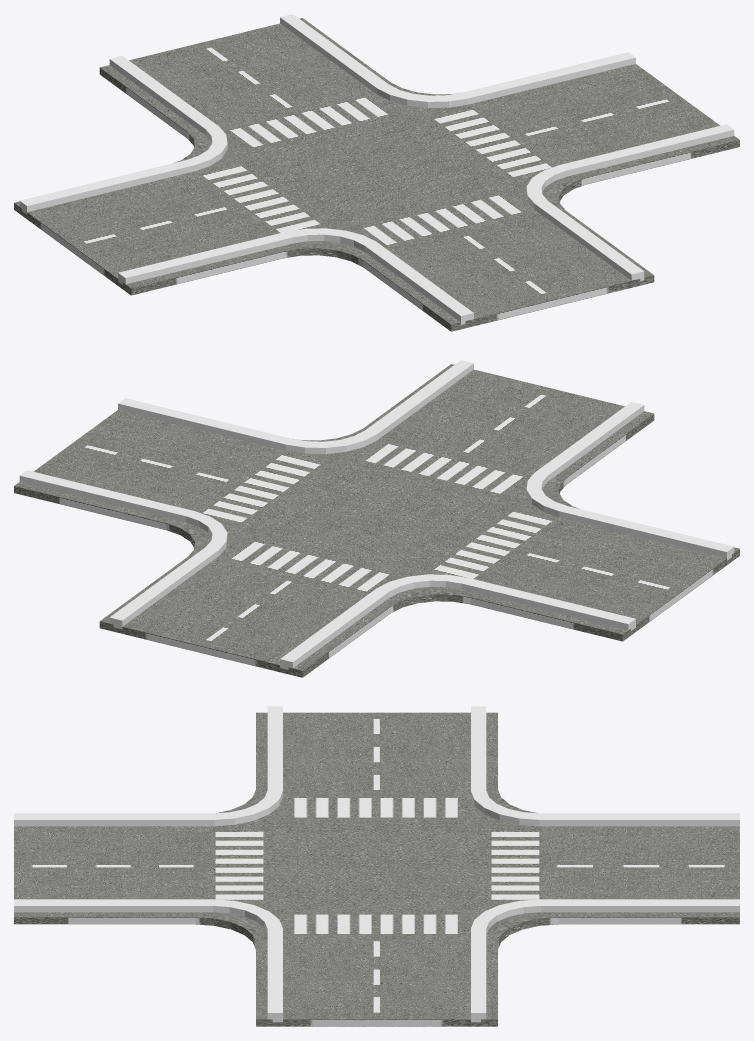
The model's file is 4Road.fbx.
The picture shows the model from 3 angles, top to bottom: view 1: azimuth 30°, elevation 25°; view 2: azimuth 150°, elevation 25°; view 3: azimuth 270°, elevation 25°; orthographic projection. The views are drawn at different scales.
Visible parts, largest first — view 1: 4YOL; view 2: 4YOL; view 3: 4YOL.
Boxes of the visible parts, x1,y1,x2,y2 form: 4YOL: (14, 14, 739, 331); 4YOL: (14, 360, 739, 677); 4YOL: (14, 706, 739, 1026).
Size of the model in its own units: 1800 by 37.5 by 1800.
